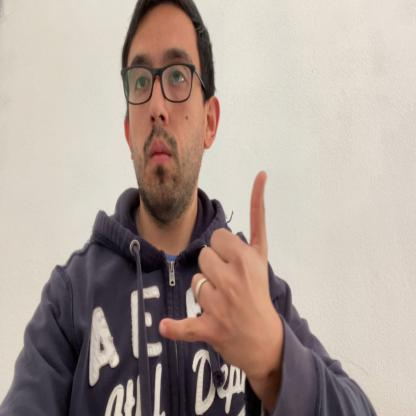Y: (159, 170, 274, 365)
